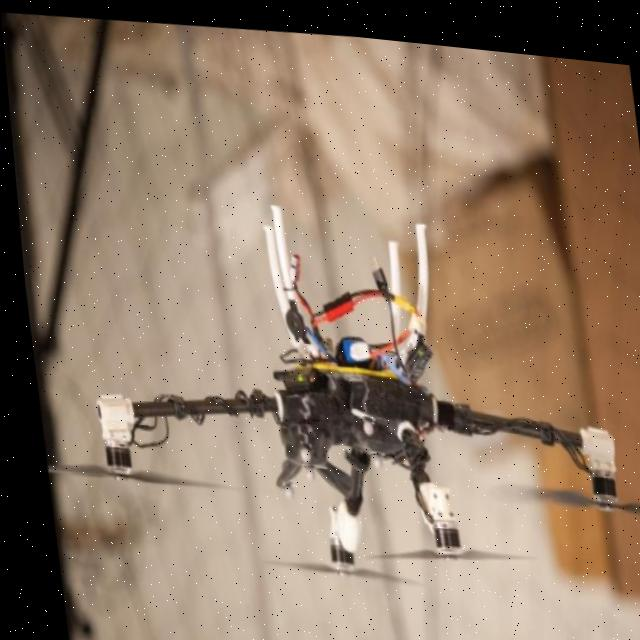drones: (10, 145, 640, 640)
